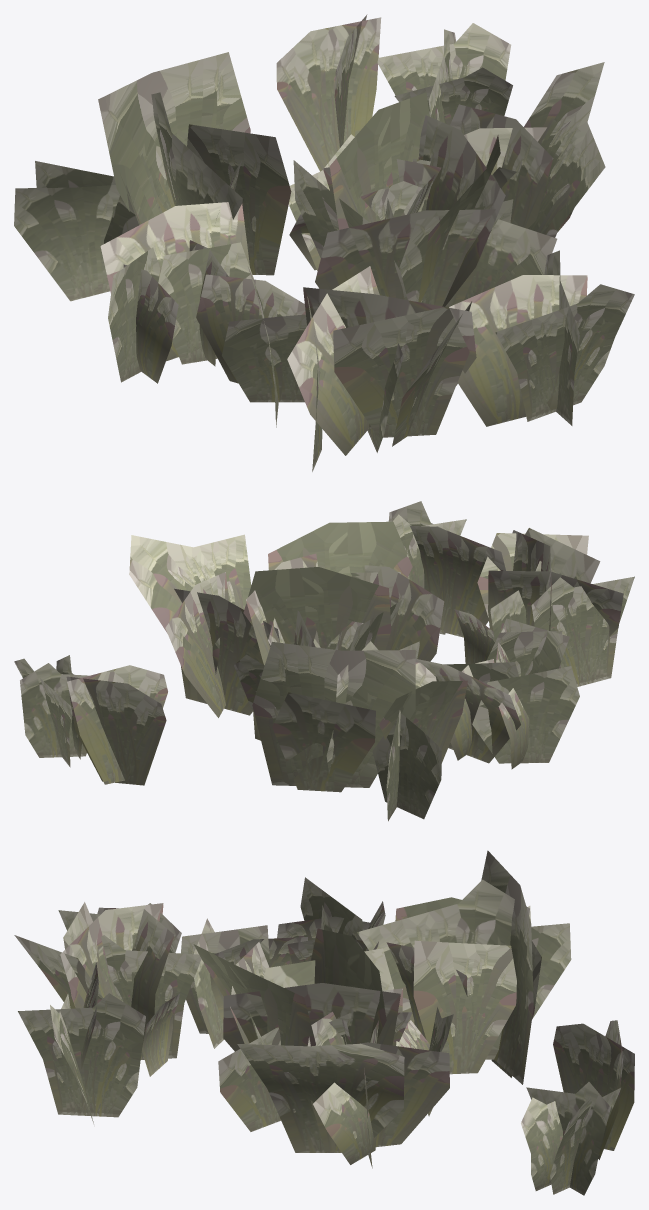
The model's file is SM_DriedGrass_01a.fbx.
The picture shows the model from 3 angles, top to bottom: view 1: azimuth 30°, elevation 25°; view 2: azimuth 150°, elevation 25°; view 3: azimuth 270°, elevation 25°; orthographic projection. The views are drawn at different scales.
Parts seen in each view (by area): view 1: SM_DriedGrass_01a_LOD0; view 2: SM_DriedGrass_01a_LOD0; view 3: SM_DriedGrass_01a_LOD0.
Boxes of the visible parts, x1,y1,x2,y2 form: SM_DriedGrass_01a_LOD0: [14, 14, 634, 471]; SM_DriedGrass_01a_LOD0: [14, 501, 634, 821]; SM_DriedGrass_01a_LOD0: [14, 850, 634, 1195].
Bounding box in the file's own units: 120 × 134 × 43.64.
